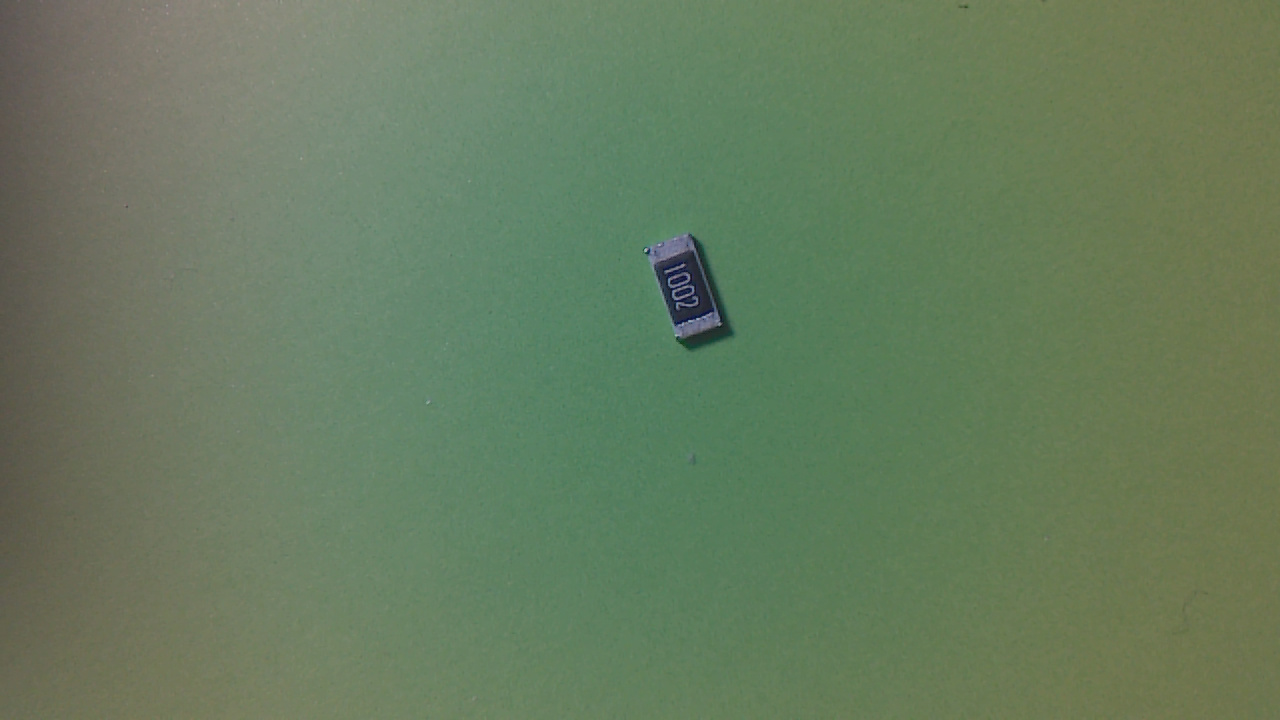Resistor: (649, 232, 736, 355)
